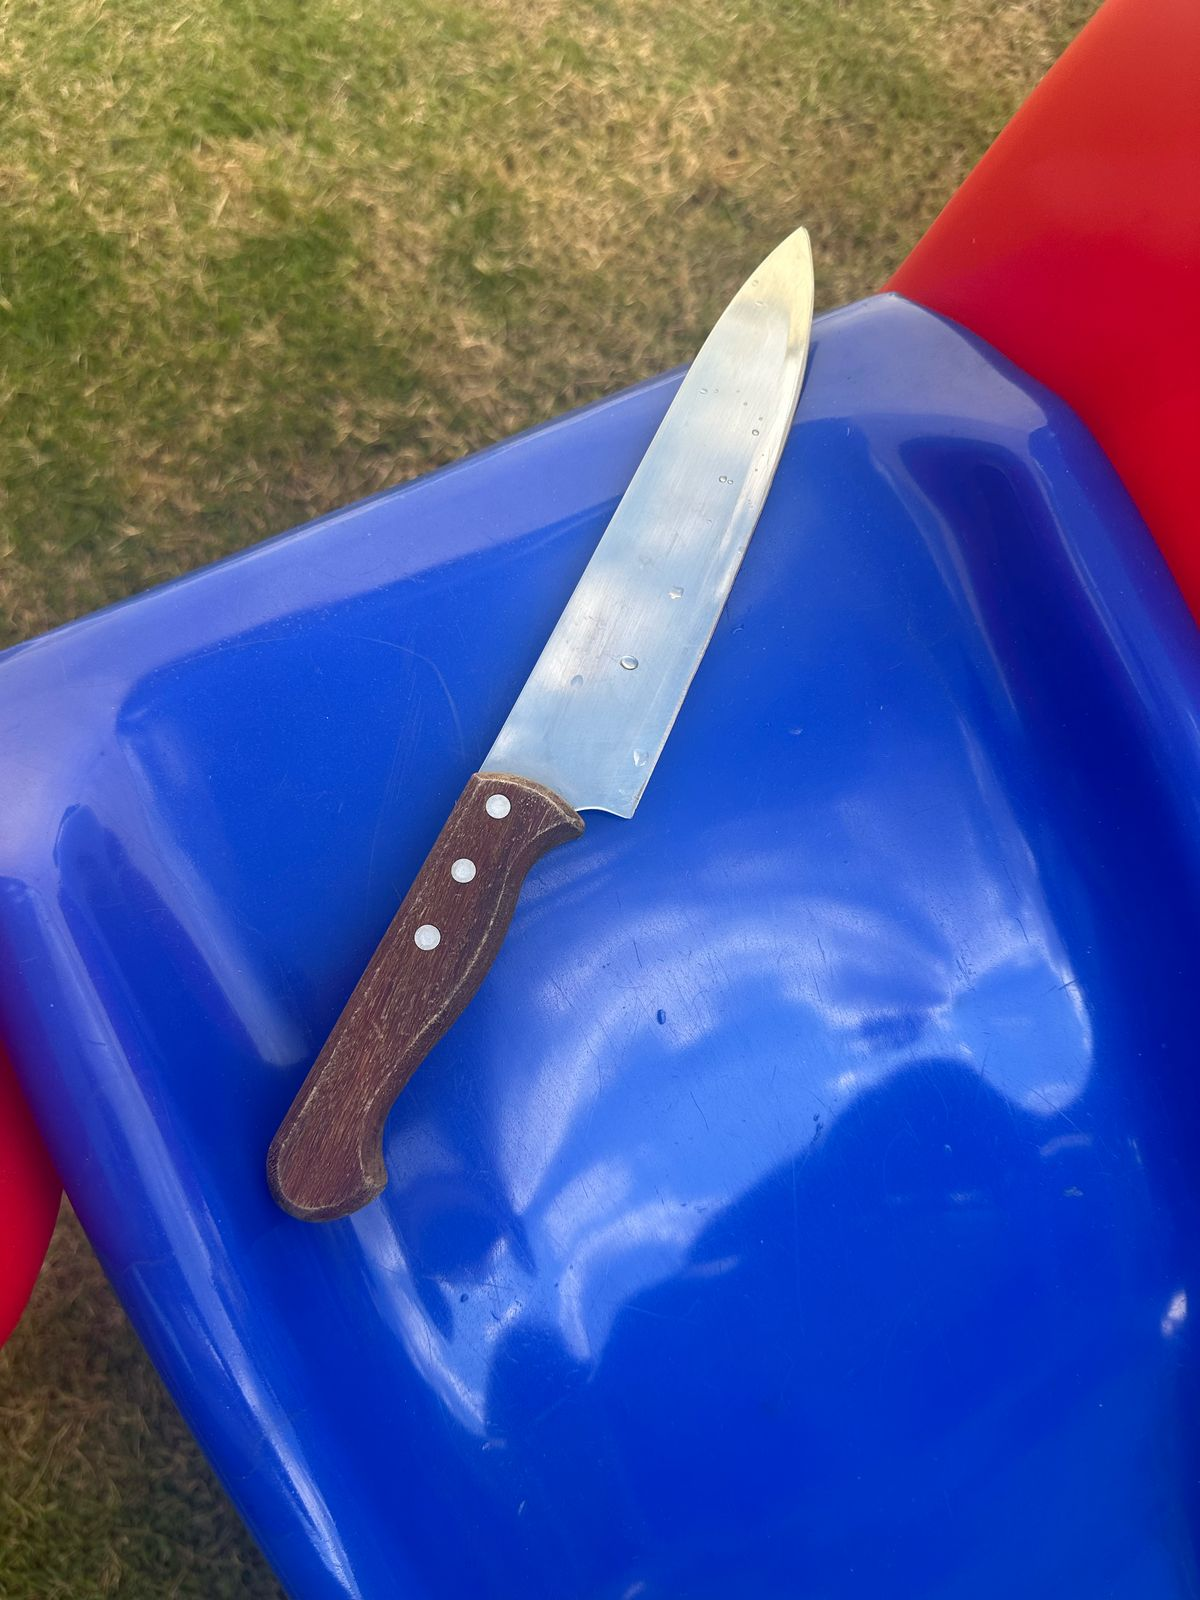faca: (260, 213, 832, 1227)
